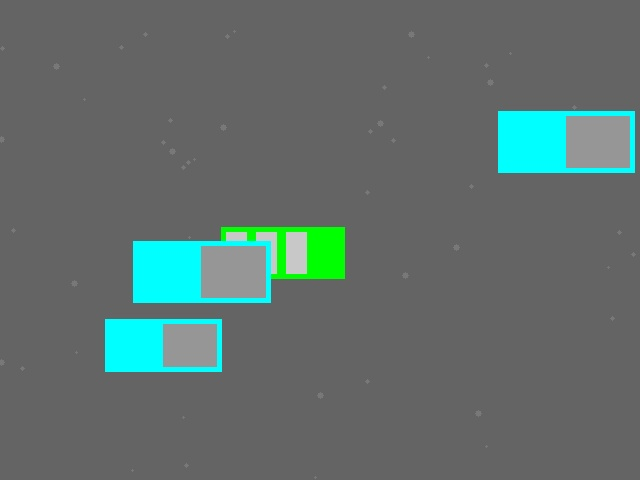bus: (221, 227, 344, 278)
truck: (133, 241, 270, 302), (498, 111, 634, 172), (105, 319, 221, 371)
